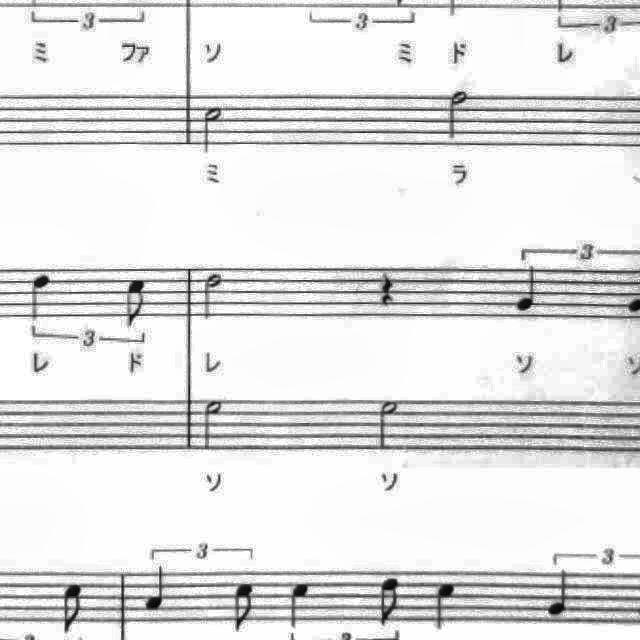Eighth-note: (225, 577, 262, 637), (120, 274, 156, 334), (56, 578, 92, 638), (372, 572, 408, 632)
Half-note: (440, 82, 476, 146), (369, 394, 406, 454), (197, 393, 231, 457), (196, 100, 232, 160), (198, 267, 230, 325)
Quarter-note: (539, 565, 581, 623), (428, 575, 466, 635), (509, 259, 548, 317), (22, 267, 58, 325), (280, 576, 316, 632), (140, 564, 176, 616)
Quarter-rest: (369, 265, 399, 311)
